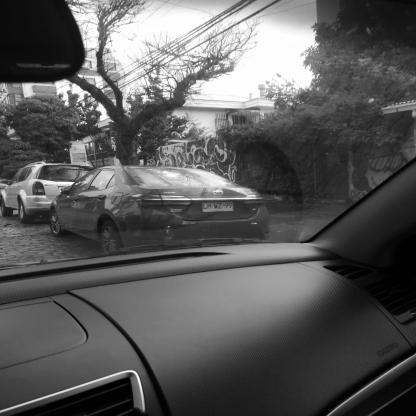Patente: (198, 200, 241, 213)
